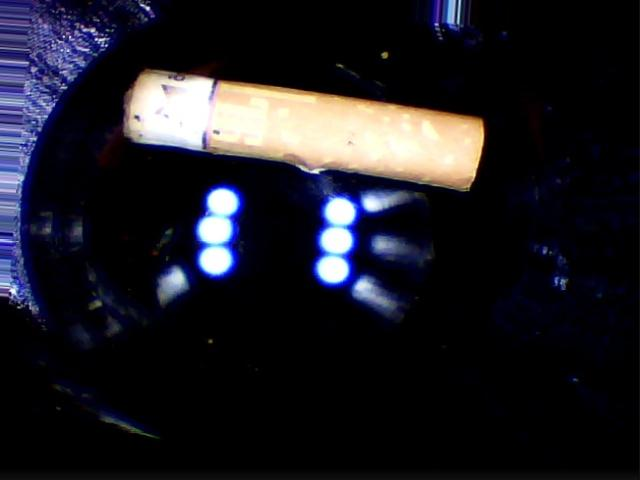megot: (107, 56, 493, 197)
